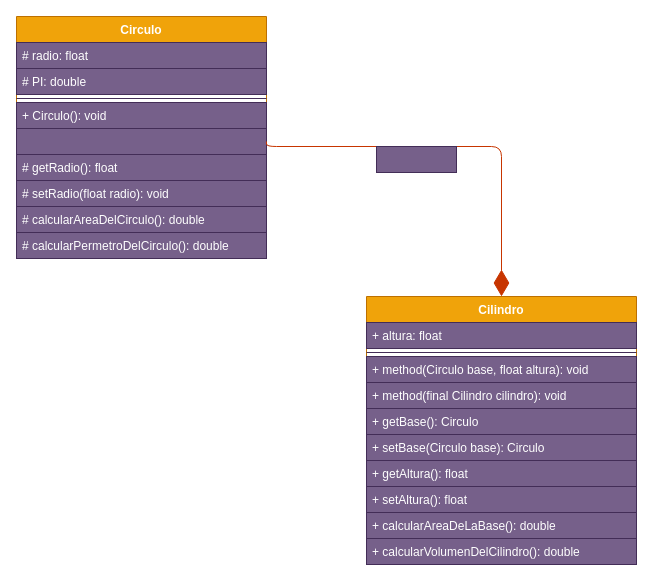
Image size: 653x581. Some labels were removed from this diagram. The shapes that lost their labels are listed below. From the top down, each one's centre as x and y in pixels, then its label:
point 141,141: + Circulo(Circulo circulo): void
point 416,159: base
